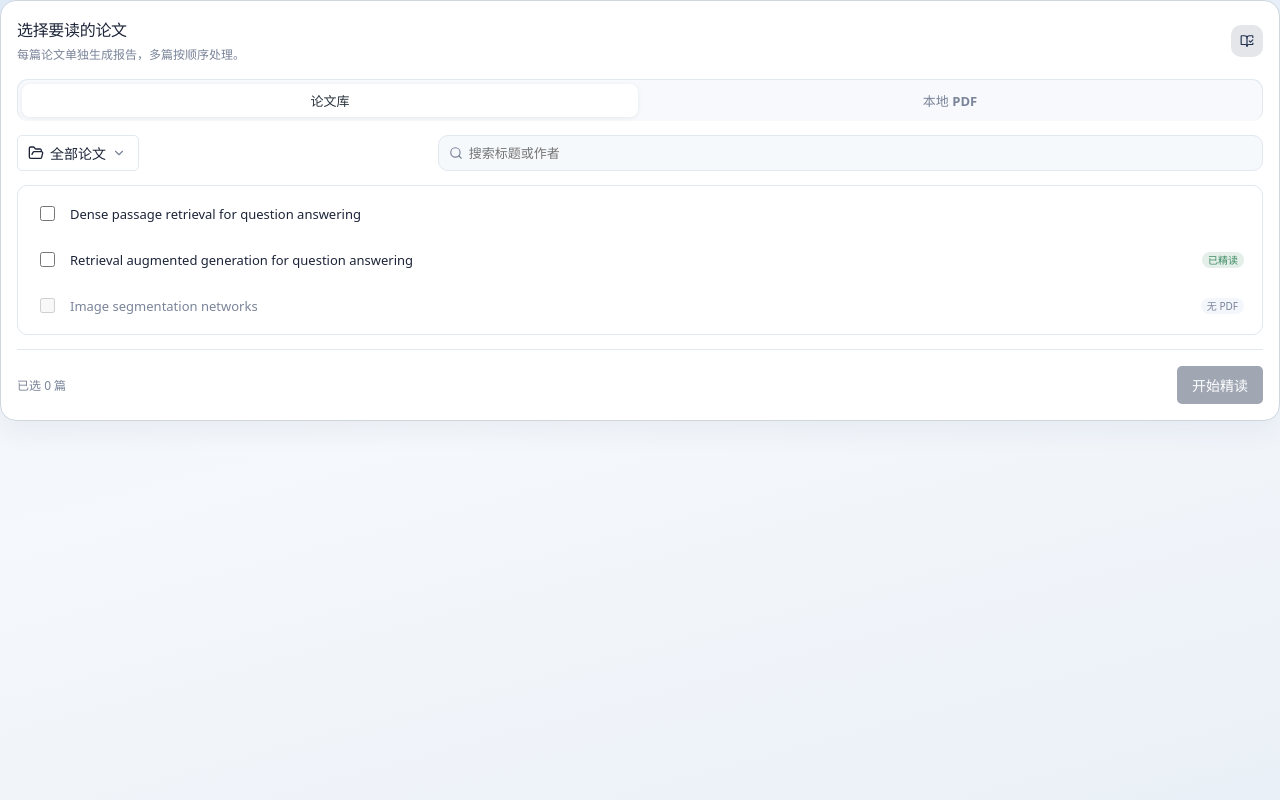
Scenario: DeepReadNewCard › creates deep reads for the selected library papers and clears the selection
The image size is (1280, 800).
Click the checkbox labelled "Dense passage retrieval for question answering" at (48, 214), box [40,206,55,221]
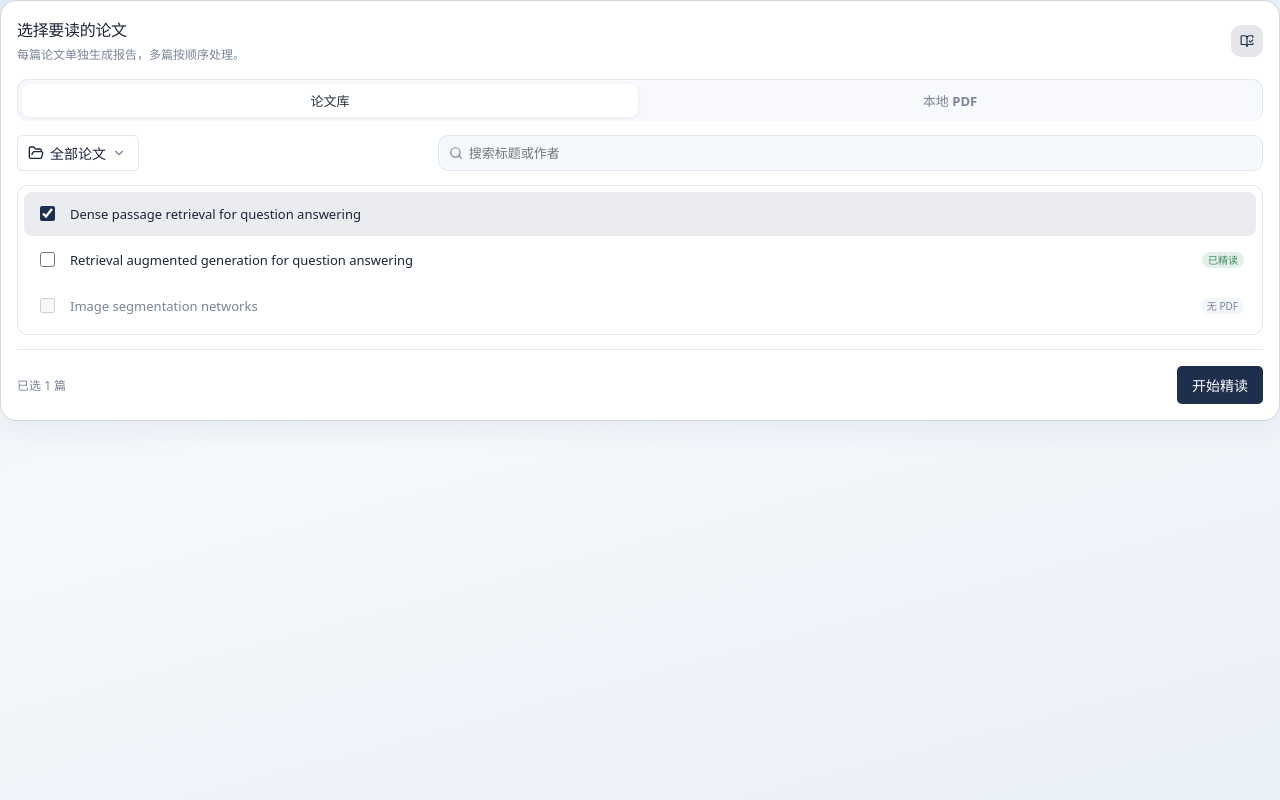
Click the checkbox labelled "Retrieval augmented generation for question answering 已精读" at (48, 260), box [40,252,55,267]
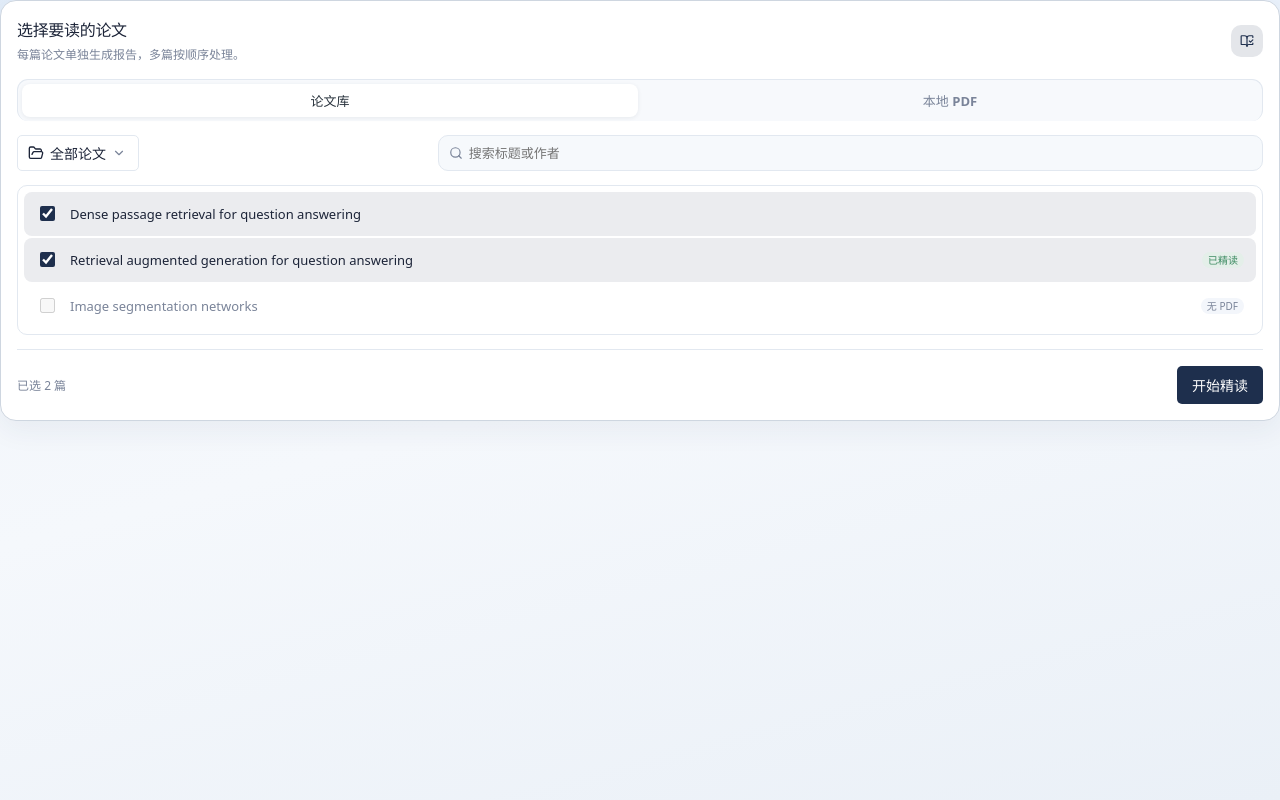
Click the button "开始精读" at (1220, 385), box [1177,366,1263,404]
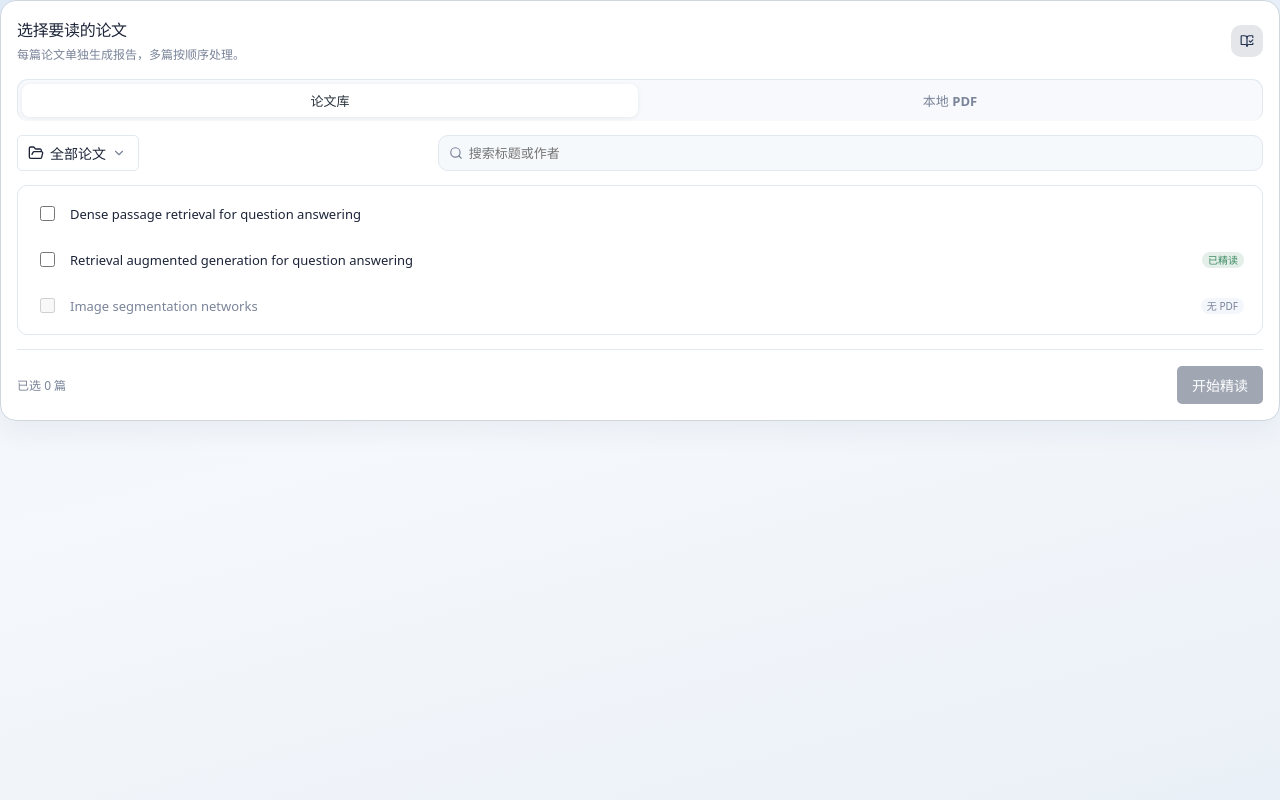
Now the text "已选 0 篇" is shown, box [17,376,66,394]
